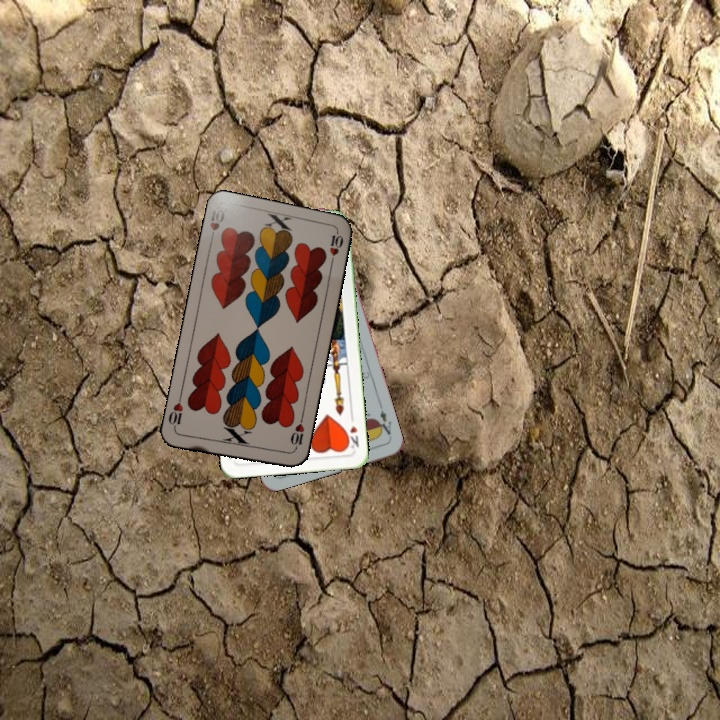EA: (372, 406, 394, 441)
H10: (206, 204, 227, 245), (286, 414, 307, 454)
HK: (342, 421, 361, 451)
